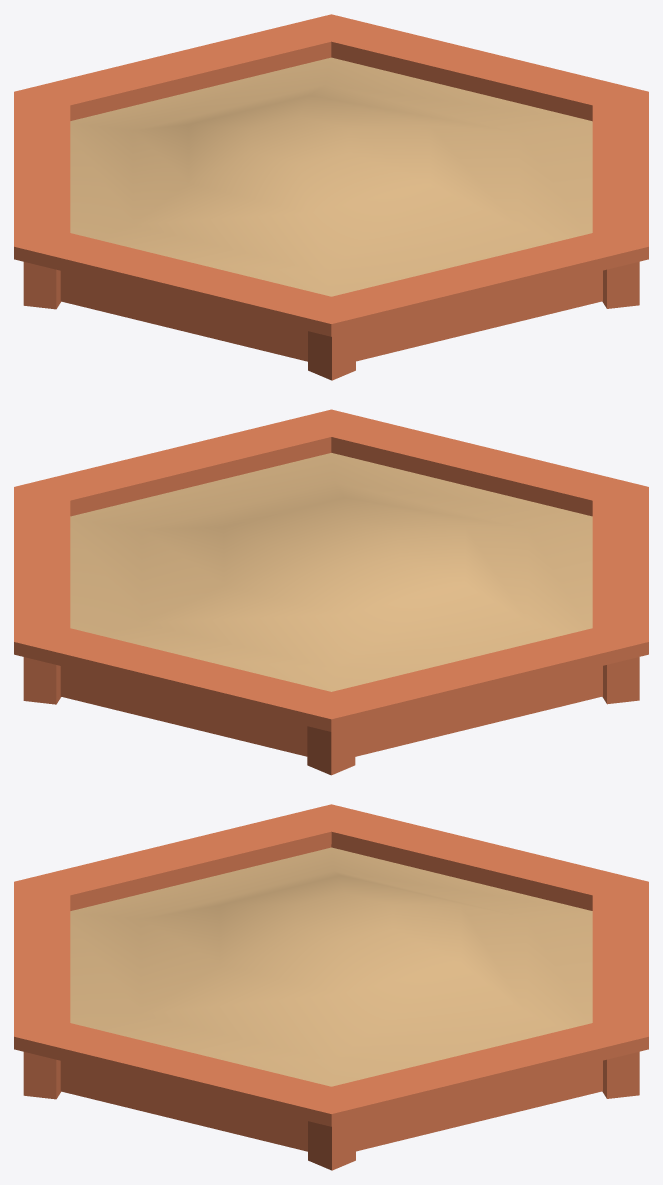
The model's file is Sandbox_01.fbx.
The picture shows the model from 3 angles, top to bottom: view 1: azimuth 30°, elevation 25°; view 2: azimuth 150°, elevation 25°; view 3: azimuth 270°, elevation 25°; orthographic projection.
Visible parts, largest first — view 1: Sandbox_01; view 2: Sandbox_01; view 3: Sandbox_01.
Boxes of the visible parts, x1,y1,x2,y2 form: Sandbox_01: (14, 14, 648, 380); Sandbox_01: (14, 409, 648, 775); Sandbox_01: (14, 804, 648, 1170).
Bounding box in the file's own units: 3.14 × 0.4311 × 2.72.
